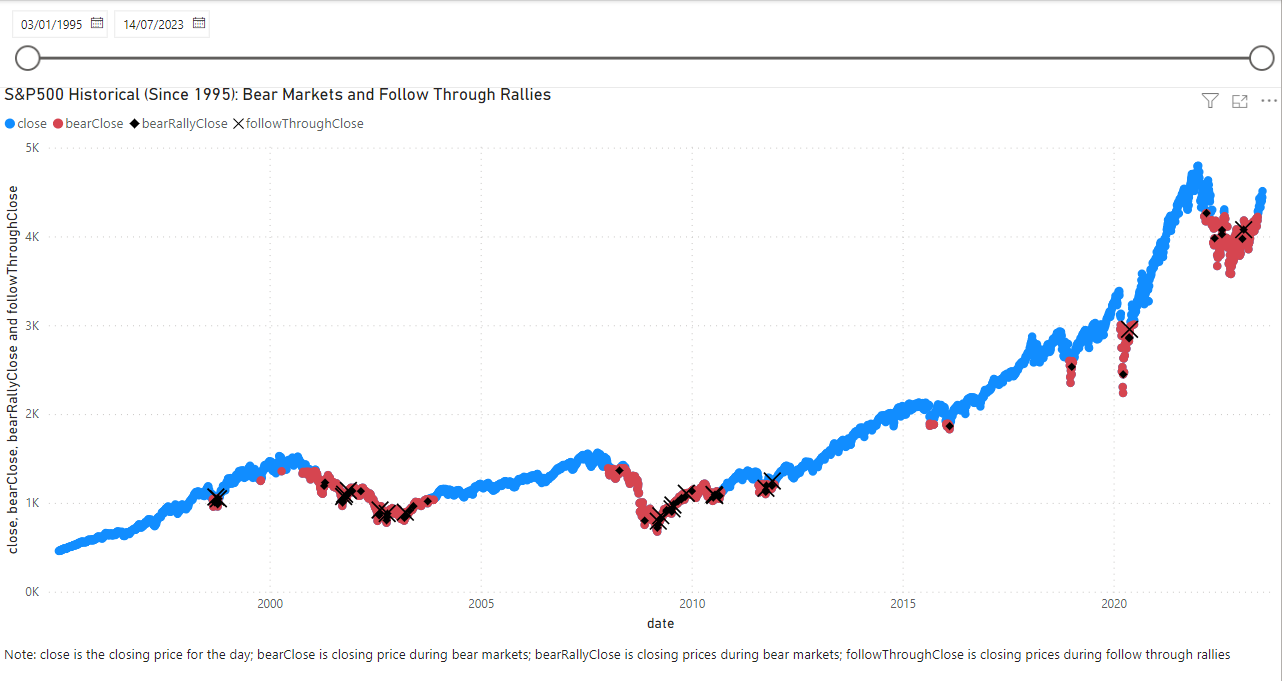

Layout of this report page (visuals, bound fields, positions):
{"tool":"powerbi","page":{"name":"bearMarketsSince1995","canvas":[1280,720],"ordinal":0},"visuals":[{"type":"lineChart","title":"S&P500 Historical (Since 1995): Bear Markets and Follow Through Rallies","fields":{"Category":["Sheet1.date"],"Y":["Sum(Sheet1.close)","Sum(Sheet1.Column)","Sum(S&PHistoricalWithBearMarkets.RallyClose)","Sum(S&PHistoricalWithBearMarkets.followThroughClose)"]},"box":[0,83.6,1279.5,551.4],"z":0},{"type":"slicer","fields":{"Values":["Sheet1.date"]},"box":[0,0,1281.6,87.8],"z":1000},{"type":"textbox","box":[0,639.2,1279.5,44.4],"z":2000}]}

Visuals, with their boxes on the page's 1280x720 design canvas (x1, y1, x2, y2). These are canvas units, not pixel positions in the 1282x681 screenshot, which may show the page scaled, cropped or inside an application window:
"S&P500 Historical (Since 1995): Bear Markets and Follow Through Rallies" lineChart: bbox=(0, 84, 1280, 635)
slicer - Sheet1.date: bbox=(0, 0, 1282, 88)
textbox: bbox=(0, 639, 1280, 684)
